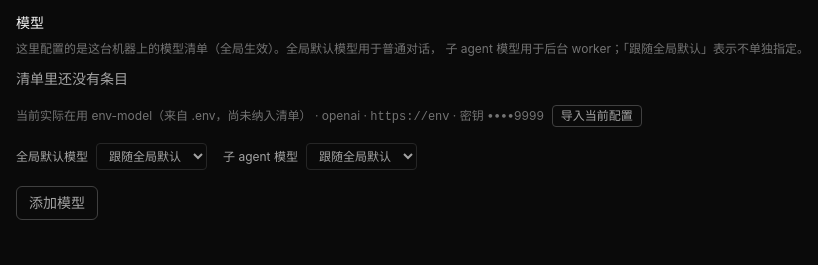
it: SettingsModelsTab › surfaces the host error and keeps the button when the import is rejected
This screenshot has width=818, height=265.
Expected: the text "来自 .env" is shown, [152,108,312,123]
Click the button "导入当前配置". click: coordinates (597, 116)
box: [552,105,642,127]
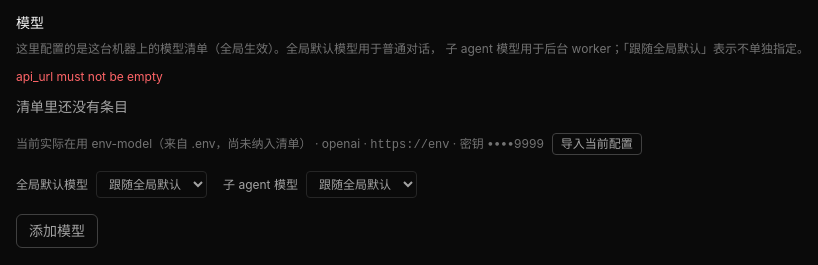
Expected: the button "导入当前配置" is shown, [552,133,642,155]
Now the message reads "api_url must not be empty", box [16,69,163,84]
